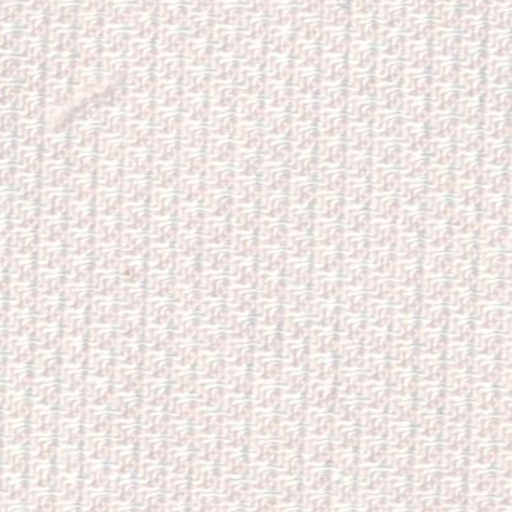DuanSha: (40, 67, 132, 146)
